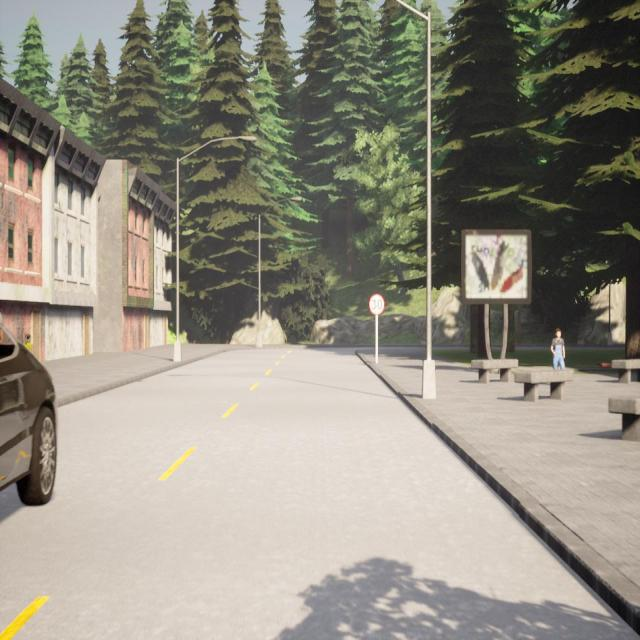Pedestrian: (551, 329, 565, 369), (22, 332, 32, 351)
Traffic_Signs: (367, 294, 385, 316)
Vehicle: (0, 323, 56, 504)
